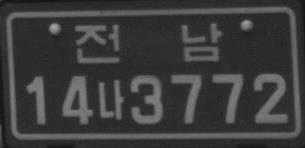1: (24, 75, 51, 125)
2: (253, 72, 289, 124)
3: (129, 73, 163, 125)
4: (61, 74, 93, 125)
7: (169, 72, 204, 125), (211, 72, 244, 124)
나: (97, 79, 125, 120)
전남_D: (74, 22, 223, 64)
